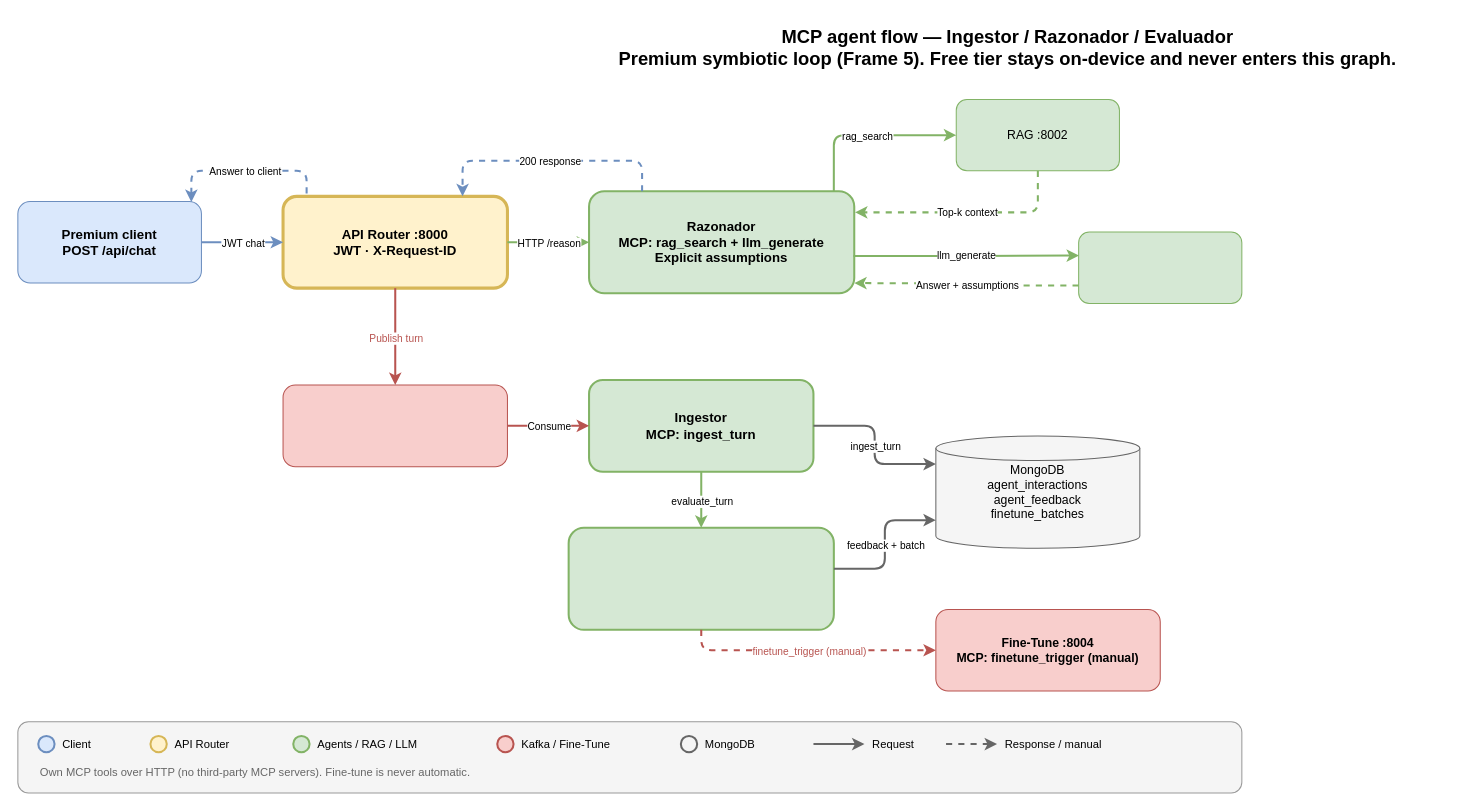
This 1484x811 diagram has some shape labels left out. The shapes that lost their labels are listed below. From the top down, each one's box as (x1, y1, x2, y2) in pixels, then its label:
(1078, 231, 1242, 303): LLM :8003 Qwen3.5-4B base
(282, 384, 507, 467): Kafka session.turn.completed
(567, 526, 834, 630): Evaluador MCP: evaluate_turn Weekly LoRA batch (no auto-train)
